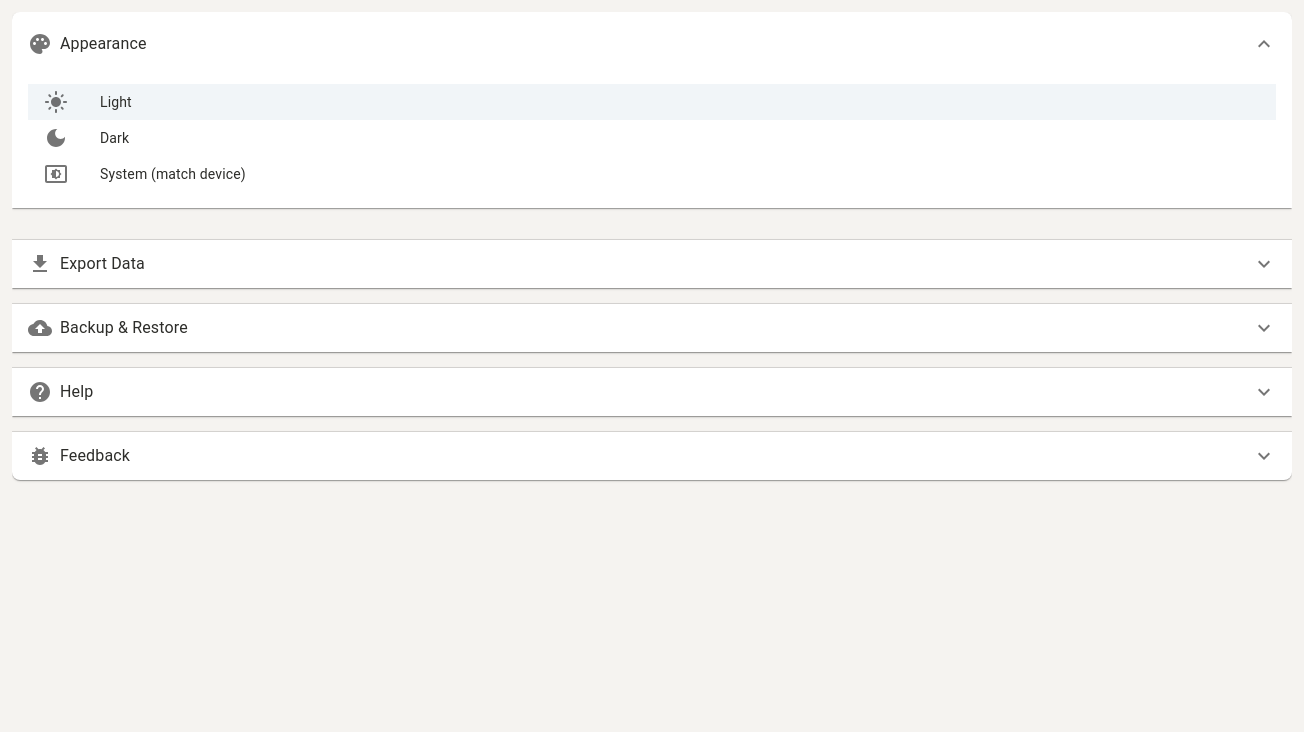
Settings › shows backup button when Backup & Restore is expanded
What coordinates should you click on to do the following:
click the button "Backup & Restore"
I would click on:
 (124, 328)
Its box is [12,304,1292,352].
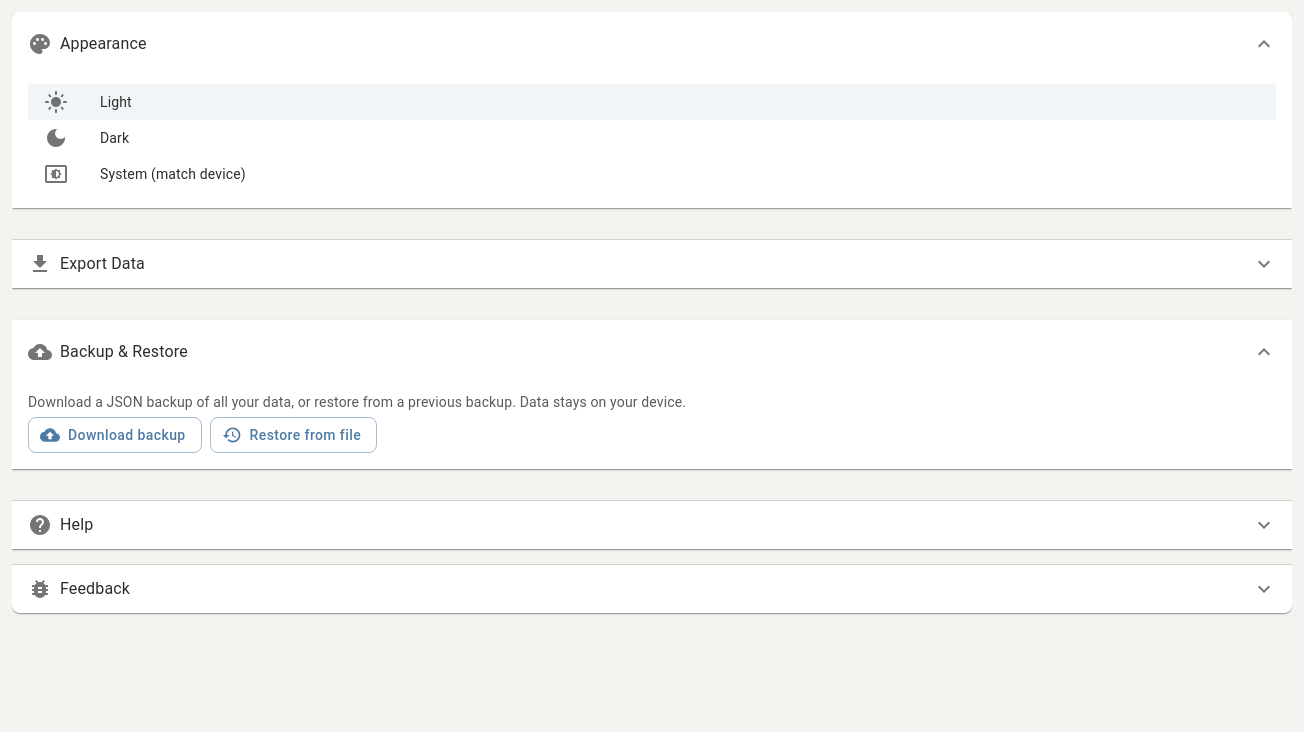
Expected: the button with test id "backup-button" is shown, [28,417,202,454]
